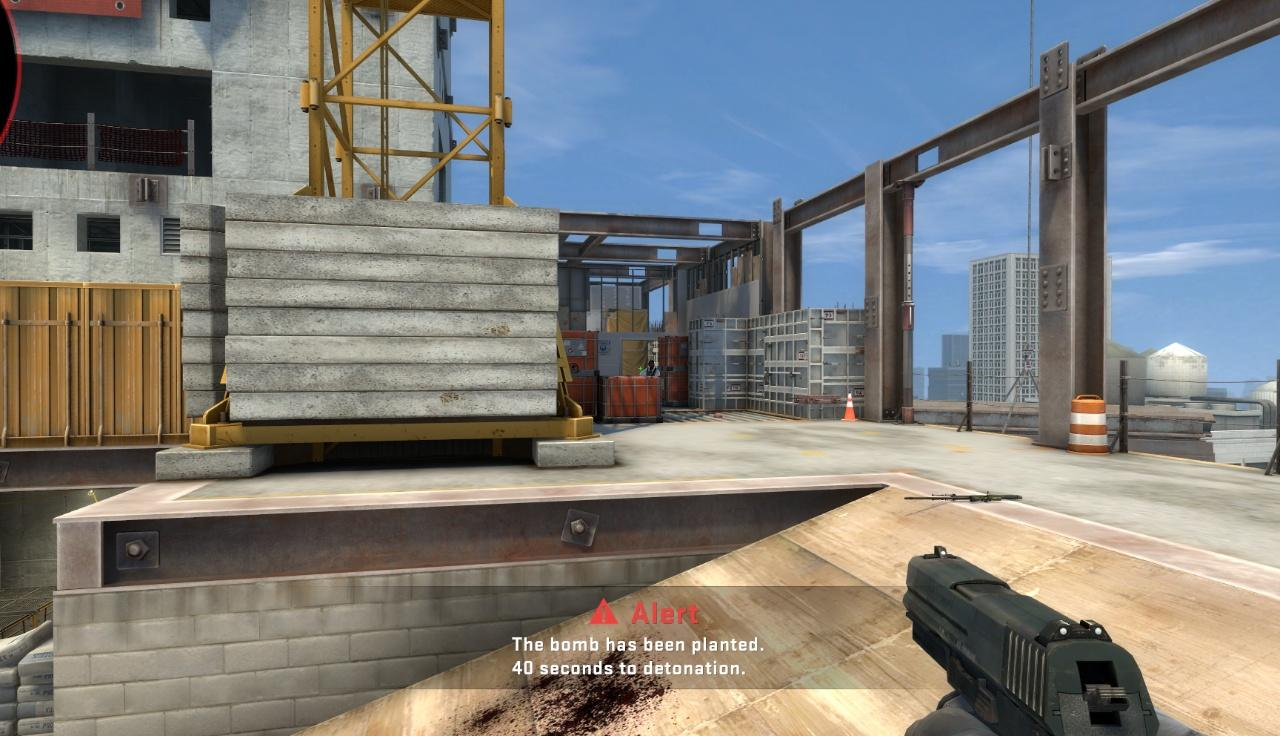pistol: (900, 544, 1170, 731)
tt: (640, 358, 660, 376)
tthead: (648, 360, 655, 369)
